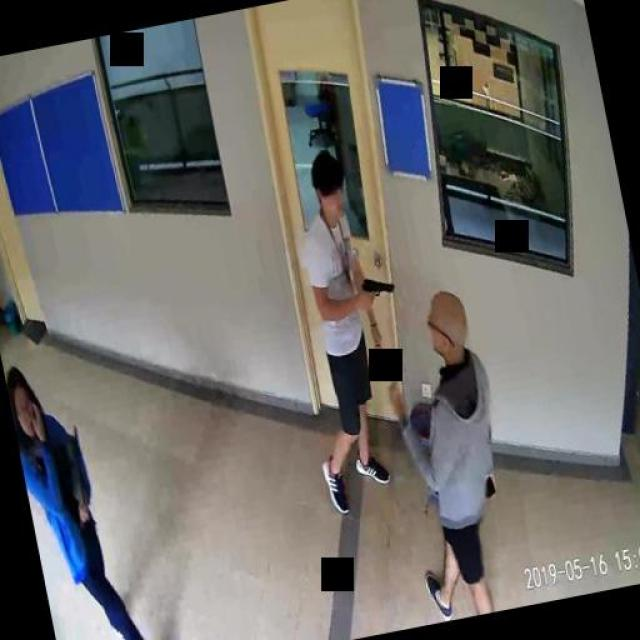gun: (360, 271, 396, 309)
